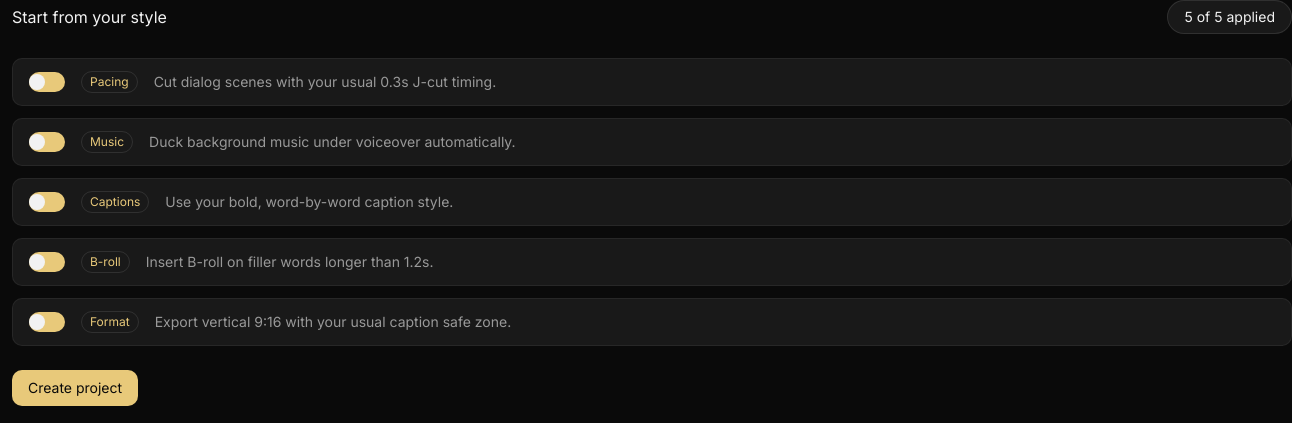
toggling one card off updates the pill to 4 of 5
What coordinates should you click on to do the following:
click the switch named "Pacing"
I would click on:
 (47, 82)
Its box is left=29, top=72, right=65, bottom=92.
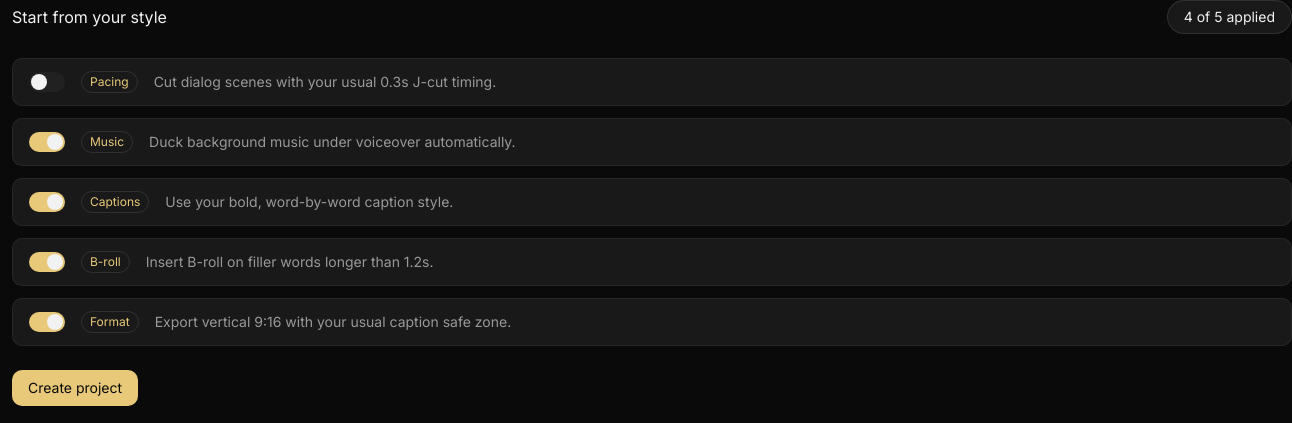
Expected: the text "4 of 5 applied" is shown, left=1167, top=0, right=1291, bottom=34
